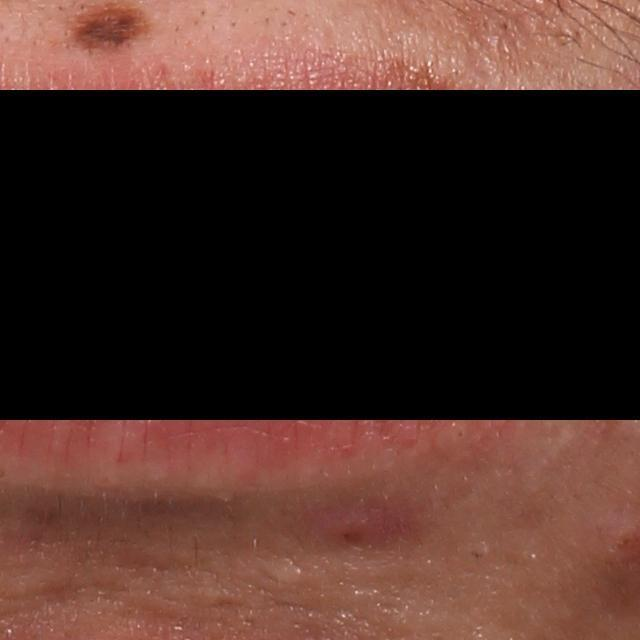hypertrophic_scar: (254, 554, 312, 586)
papule: (335, 508, 409, 543)
